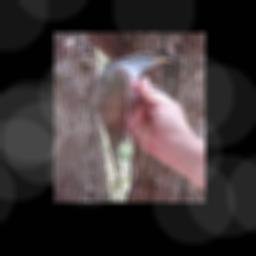Cuckoo: (91, 52, 174, 188)
